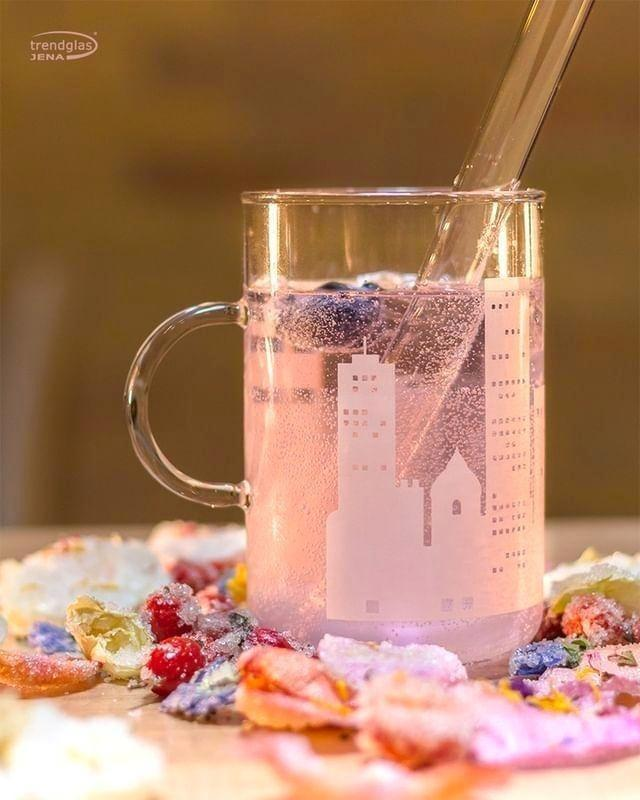glass-mug: (111, 177, 555, 669)
